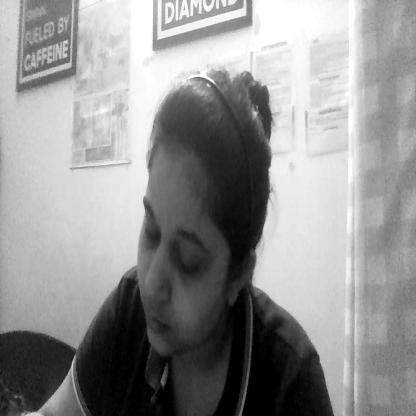Distracted: (136, 72, 266, 362)
